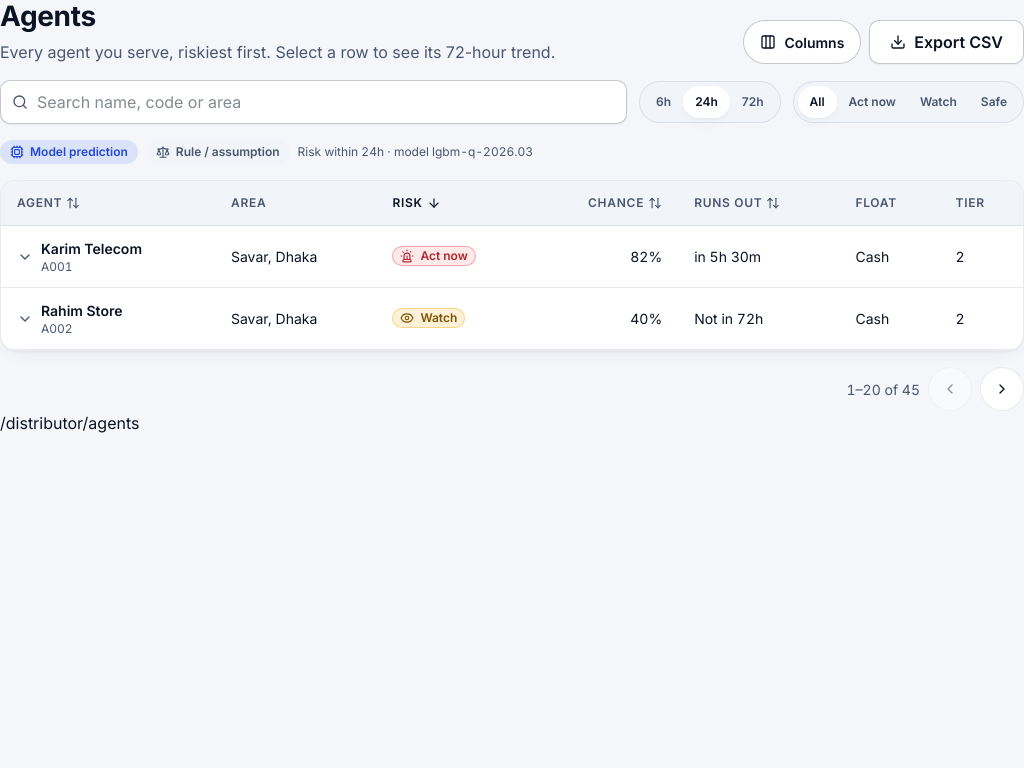
Test: distributor agents table › hides a column from the chooser and keeps it hidden in the URL
Expected: the link "Karim Telecom" is shown, left=41, top=238, right=142, bottom=259
Expected: the column heading "Tier" is shown, left=940, top=181, right=1023, bottom=226
Click the button with test id "column-chooser".
click(802, 42)  # box left=743, top=20, right=861, bottom=64
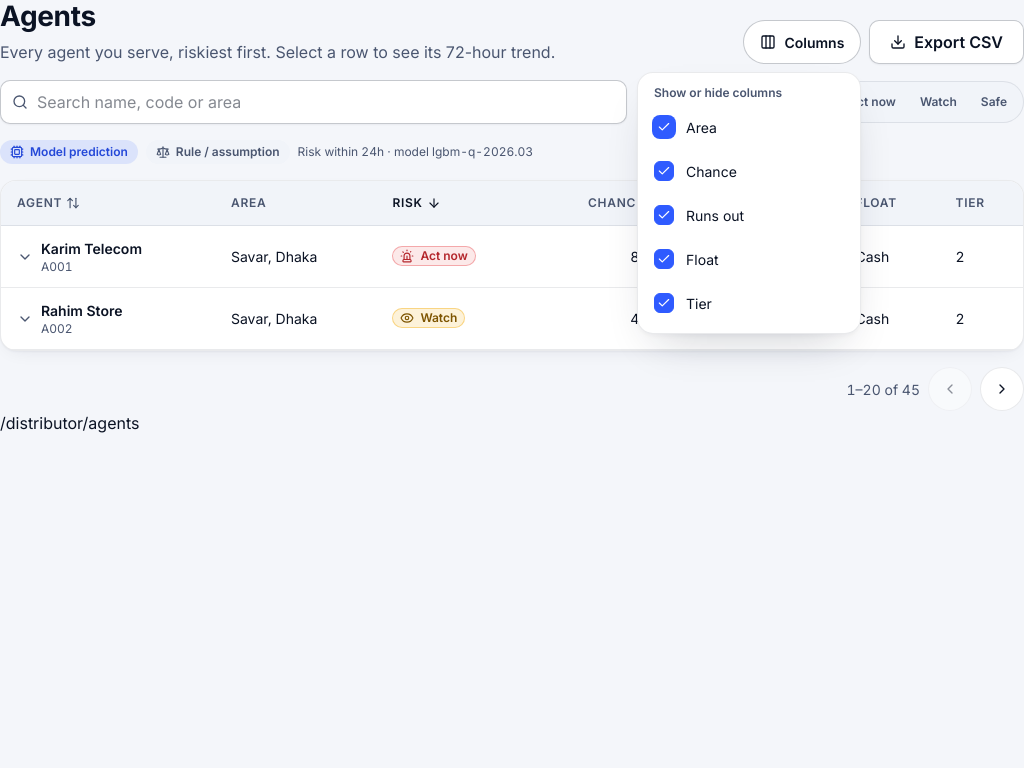
Click the checkbox labelled "Tier".
click(664, 303)  # box left=654, top=293, right=712, bottom=313
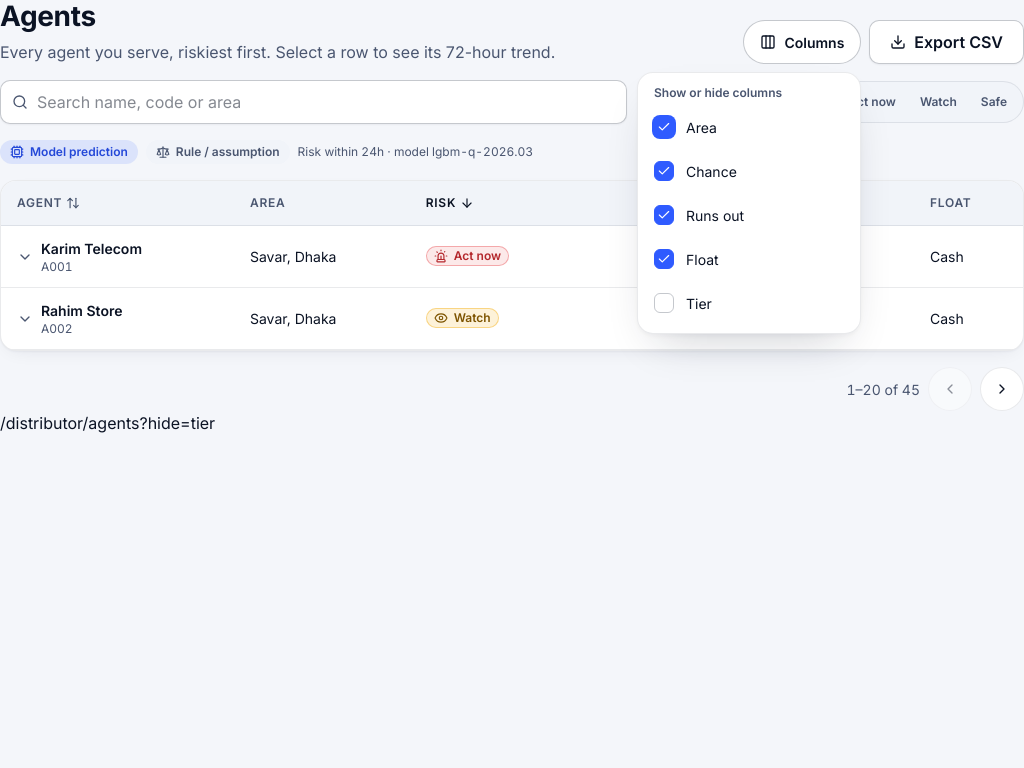
Now the text with test id "location" shows "hide=tier", box left=0, top=413, right=215, bottom=433
